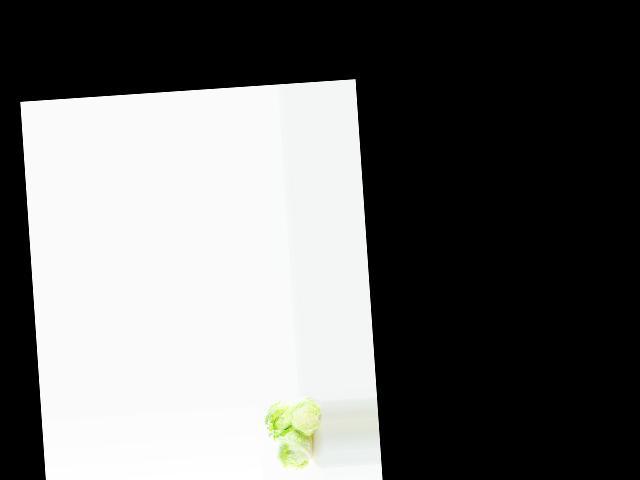lettuce: (260, 399, 296, 443)
